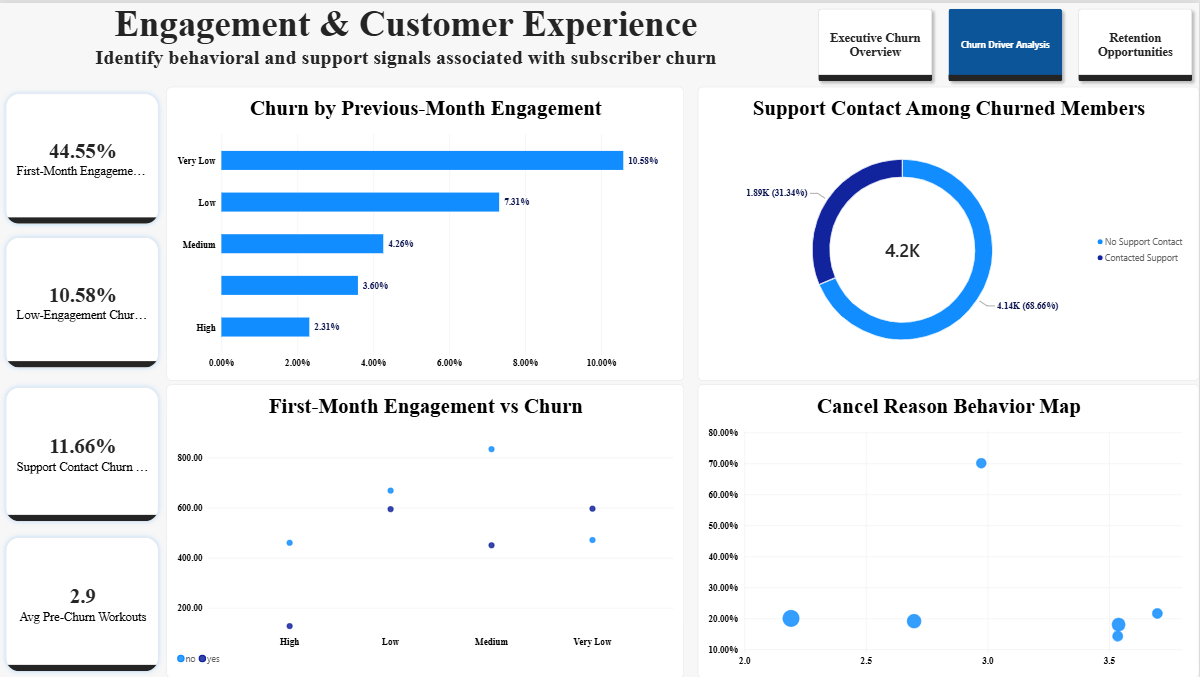

What the dashboard file says about the page in this screenshot:
{"tool":"powerbi","page":{"name":"Churn Driver Analysis","canvas":[1920,1080],"ordinal":1},"visuals":[{"type":"cardVisual","title":"Active Subscribers","fields":{"Data":["Measures (2).First-Month Engagement Rate"]},"box":[0,134,266,230],"z":0},{"type":"cardVisual","title":"Active Subscribers","fields":{"Data":["Measures (2).Low-Engagement Churn Rate"]},"box":[0,364,266,230],"z":1000},{"type":"cardVisual","title":"Active Subscribers","fields":{"Data":["Measures (2).Support Contact Churn Rate"]},"box":[0,604,266,236],"z":2000},{"type":"cardVisual","title":"Active Subscribers","fields":{"Data":["Measures (2).Avg Pre-Churn Workouts"]},"box":[0,844,266,236],"z":3000},{"type":"clusteredBarChart","title":"Churn by Previous-Month Engagement","fields":{"Category":["Fact_MonthlyUsage.prev_month_engagement_band"],"Y":["Measures (2).Customer-Month Churn Rate"]},"box":[268,134,828,470],"z":4000},{"type":"donutChart","title":"Support Contact Among Churned Members","fields":{"Category":["Fact_MonthlyUsage.Support Contact Status"],"Y":["Count(Fact_MonthlyUsage.customer_id)"]},"box":[1118,134,802,470],"z":5000},{"type":"scatterChart","title":"First-Month Engagement vs Churn","fields":{"X":["Dim_Customer.first_month_engagement_band"],"Series":["Dim_Customer.churned"],"Y":["Dim_Customer.customer_id"]},"box":[268,610,828,470],"z":6000},{"type":"scatterChart","title":"Cancel Reason Behavior Map","fields":{"Category":["Dim_Customer.cancel_reason"],"X":["Measures (2).Avg Pre-Churn Workouts"],"Y":["Measures (2).Churn-Month Support Contact Rate"],"Size":["Count(Dim_Customer.customer_id)"]},"box":[1118,610,802,470],"z":7000},{"type":"textbox","box":[0,0,1302,134],"z":8000},{"type":"pageNavigator","box":[1302,0,618,134],"z":8001}]}

Visuals, with their boxes in screenshot pixels (x1, y1, x2, y2), scaled from the page's 1920x1080 canvas onto the 1200x677 screenshot:
"Active Subscribers" cardVisual: rect(0, 84, 166, 228)
"Active Subscribers" cardVisual: rect(0, 228, 166, 372)
"Active Subscribers" cardVisual: rect(0, 379, 166, 527)
"Active Subscribers" cardVisual: rect(0, 529, 166, 676)
"Churn by Previous-Month Engagement" clusteredBarChart: rect(168, 84, 685, 379)
"Support Contact Among Churned Members" donutChart: rect(699, 84, 1199, 379)
"First-Month Engagement vs Churn" scatterChart: rect(168, 382, 685, 676)
"Cancel Reason Behavior Map" scatterChart: rect(699, 382, 1199, 676)
textbox: rect(0, 0, 814, 84)
pageNavigator: rect(814, 0, 1199, 84)
